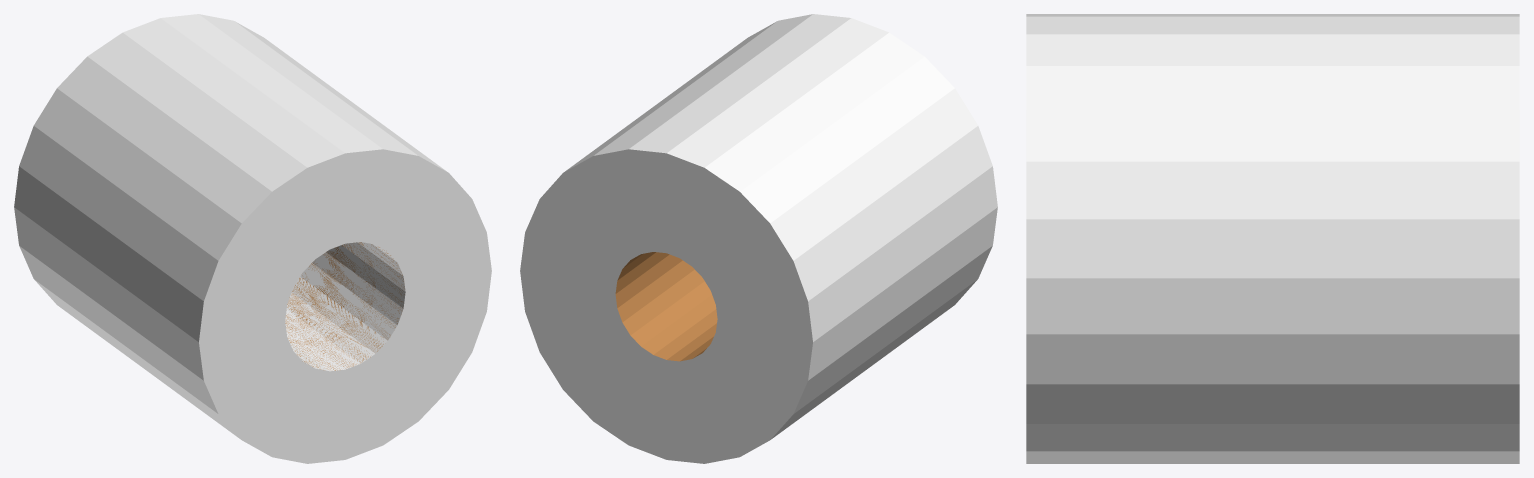
3 renders of one model, left to right at view 1: azimuth 30°, elevation 25°; view 2: azimuth 150°, elevation 25°; view 3: azimuth 270°, elevation 25°, orthographic. The views are drawn at different scales.
Parts seen in each view (by area): view 1: toilet tissue; view 2: toilet tissue; view 3: toilet tissue.
Boxes of the visible parts, left/top/right/bottom form: toilet tissue: left=14, top=14, right=491, bottom=463; toilet tissue: left=520, top=14, right=997, bottom=463; toilet tissue: left=1026, top=14, right=1519, bottom=463.
Bounding box in the file's own units: 154 × 154 × 168.
